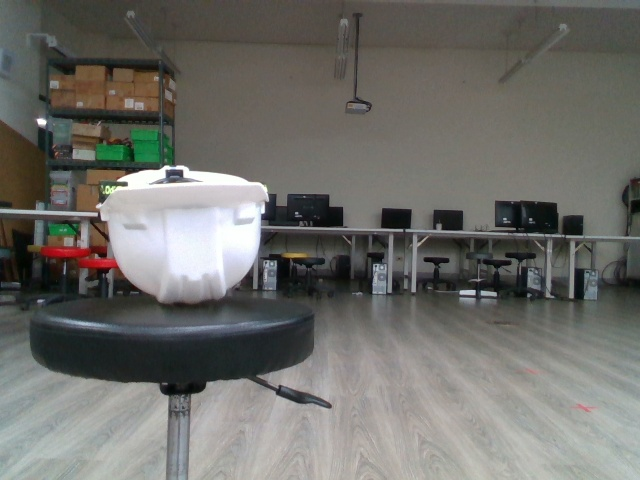helmet: (94, 162, 274, 309)
